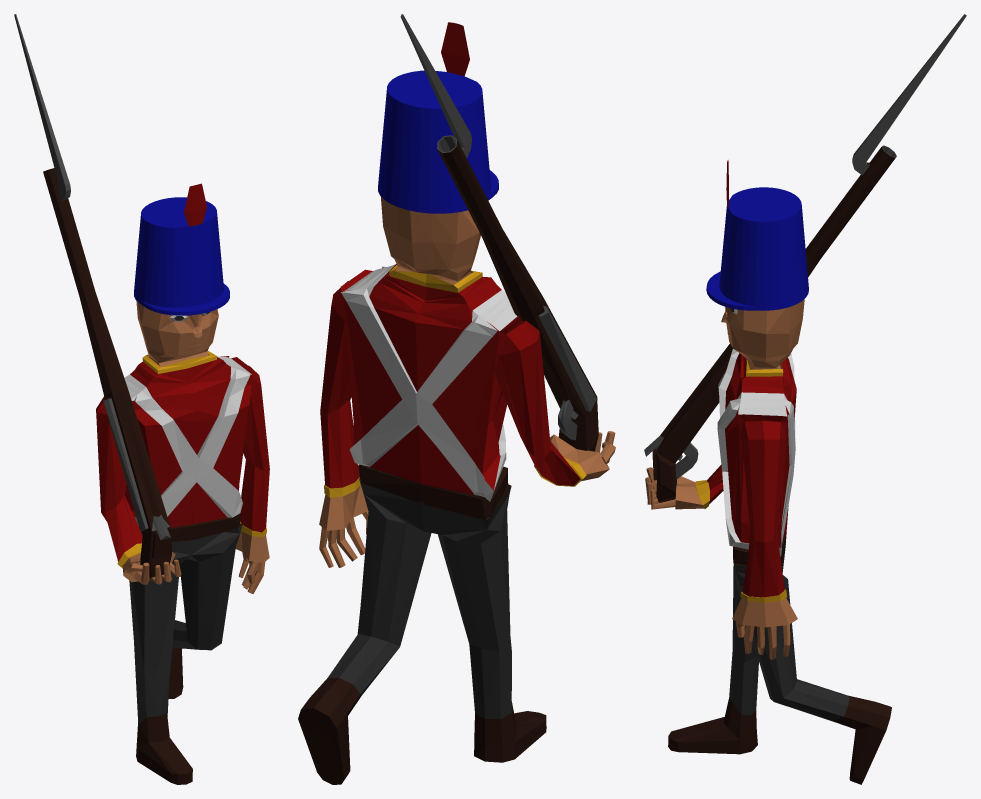
File: Infantry_000050.obj
The picture shows the model from 3 angles, left to right: view 1: azimuth 30°, elevation 25°; view 2: azimuth 150°, elevation 25°; view 3: azimuth 270°, elevation 25°; orthographic projection. The views are drawn at different scales.
Parts seen in each view (by area): view 1: {Man}_Circle, {Mesket}_Cube.001; view 2: {Man}_Circle, {Mesket}_Cube.001; view 3: {Man}_Circle, {Mesket}_Cube.001.
Part boxes in pixels (x1,y1,x2,y2): {Man}_Circle: (96, 183, 269, 784); {Mesket}_Cube.001: (14, 14, 171, 578); {Man}_Circle: (298, 22, 615, 784); {Mesket}_Cube.001: (400, 14, 598, 451); {Man}_Circle: (645, 160, 891, 784); {Mesket}_Cube.001: (644, 14, 966, 502).
Size of the model in its own units: 5.63 by 19.43 by 7.93.
